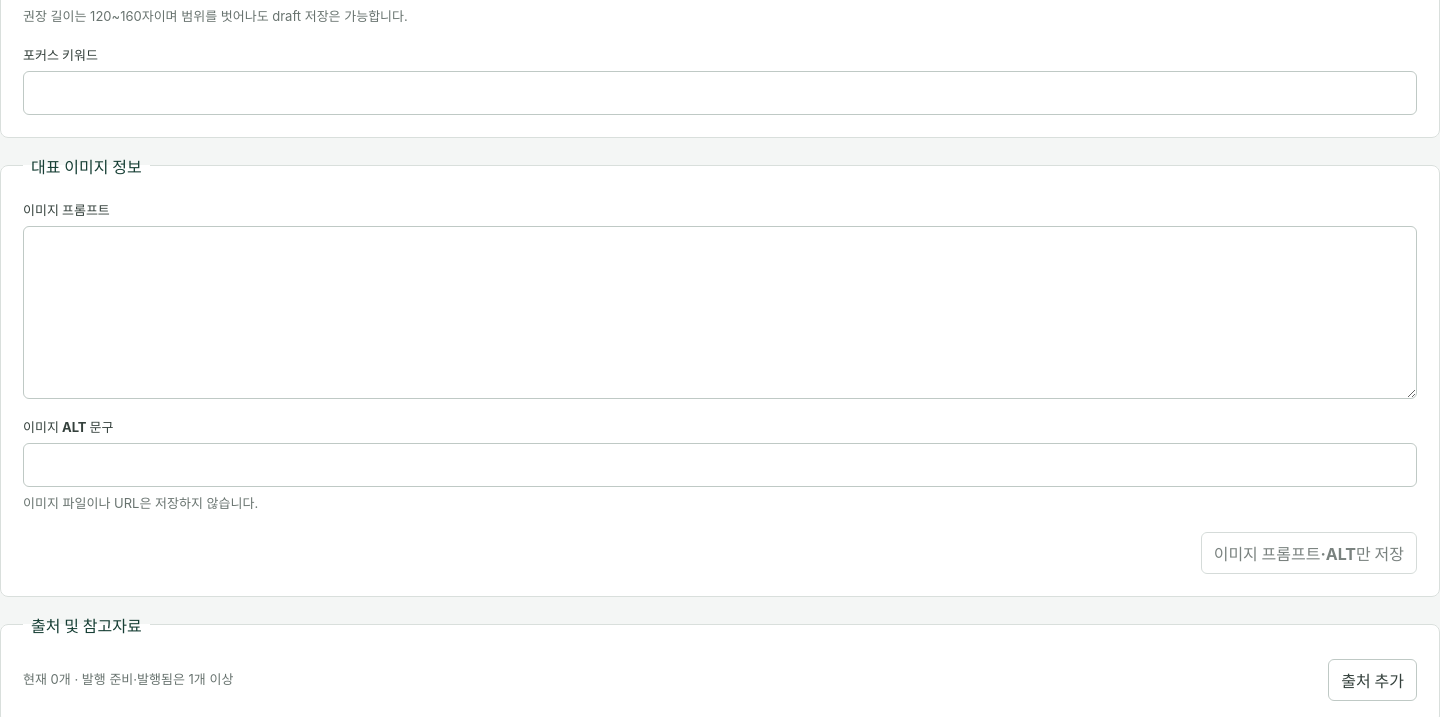
it: ContentEditPage › keeps image values and dirty state when the dedicated RPC fails
(page scrolled)
Type "실패해도 유지" into the text box labelled "이미지 프롬프트".
click(720, 312); type("실패해도 유지")  # box [23, 226, 1417, 399]
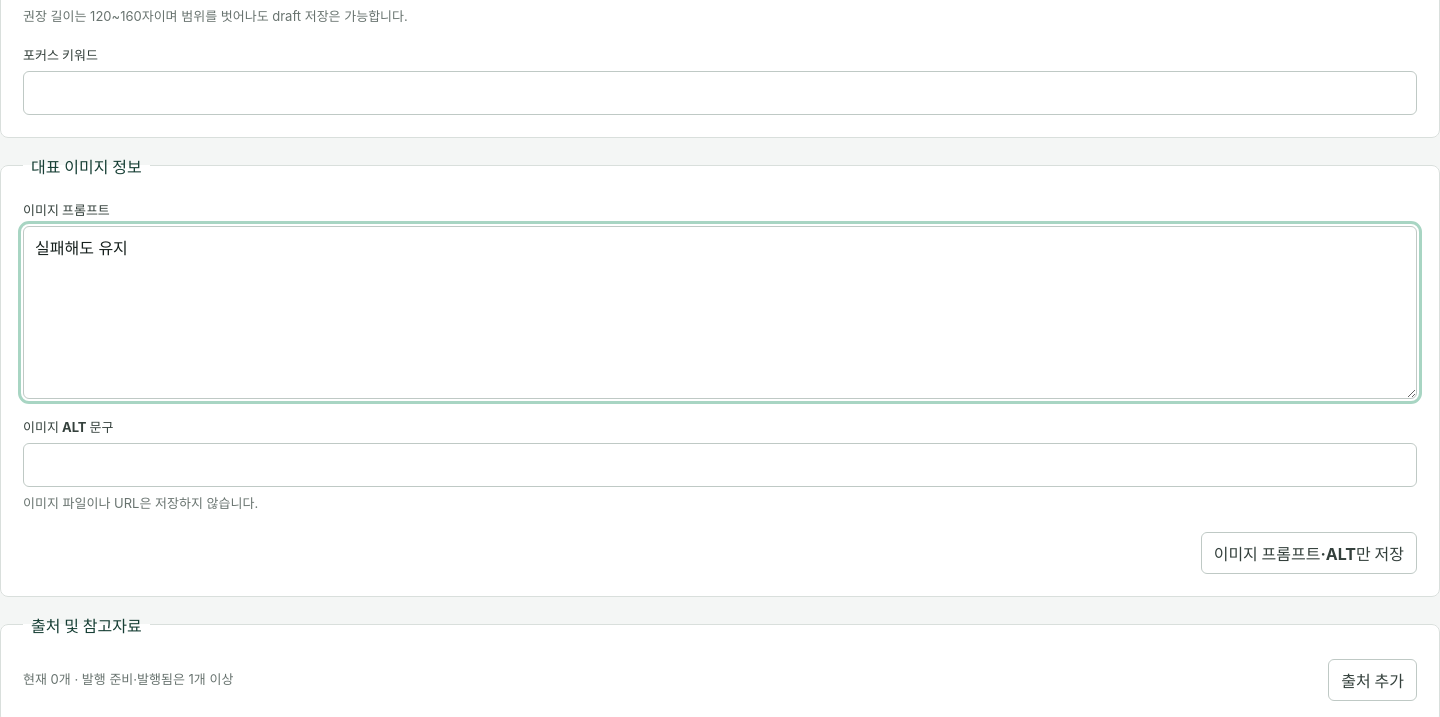
Click the button "이미지 프롬프트·ALT만 저장".
click(1309, 553)  # box [1201, 532, 1417, 574]
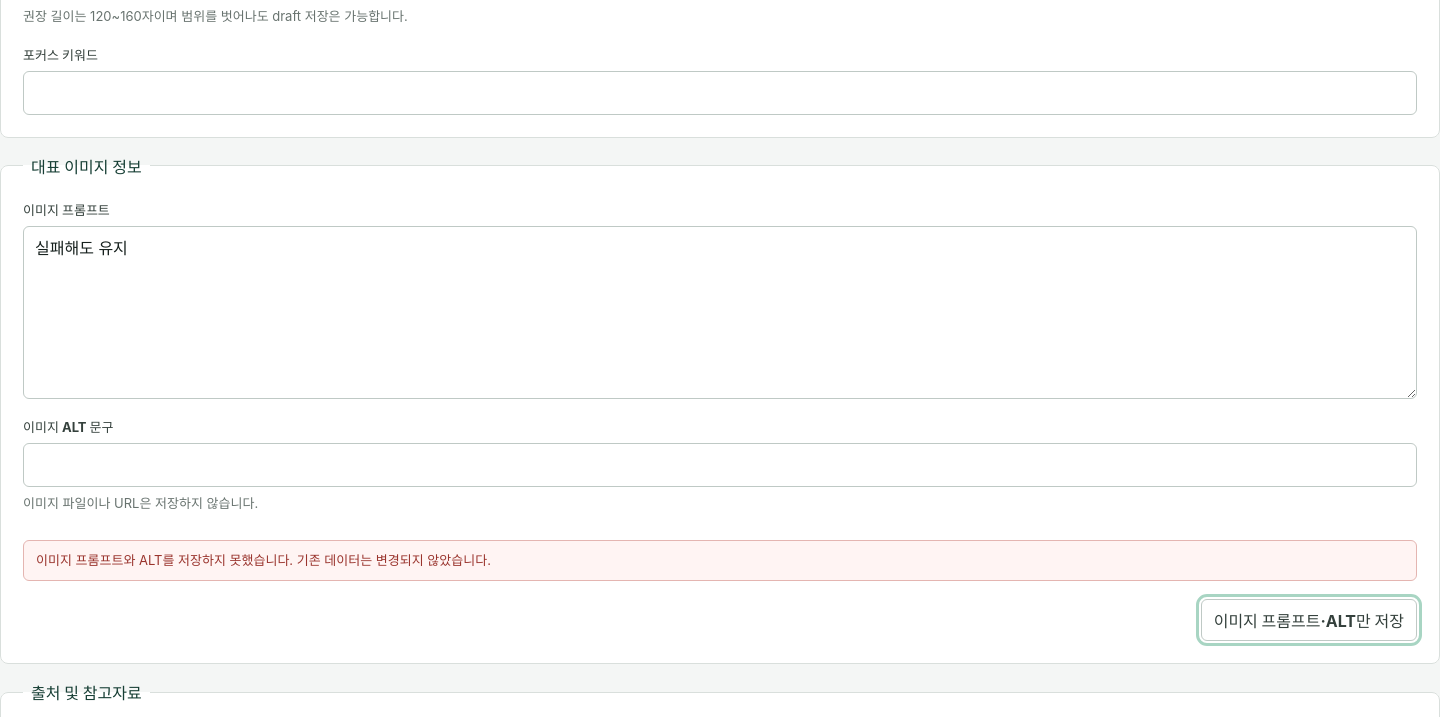
Now the button "이미지 프롬프트·ALT만 저장" is enabled, box [1201, 599, 1417, 641]
Now the message shows "기존 데이터는 변경되지 않았습니다.", box [36, 552, 491, 568]
